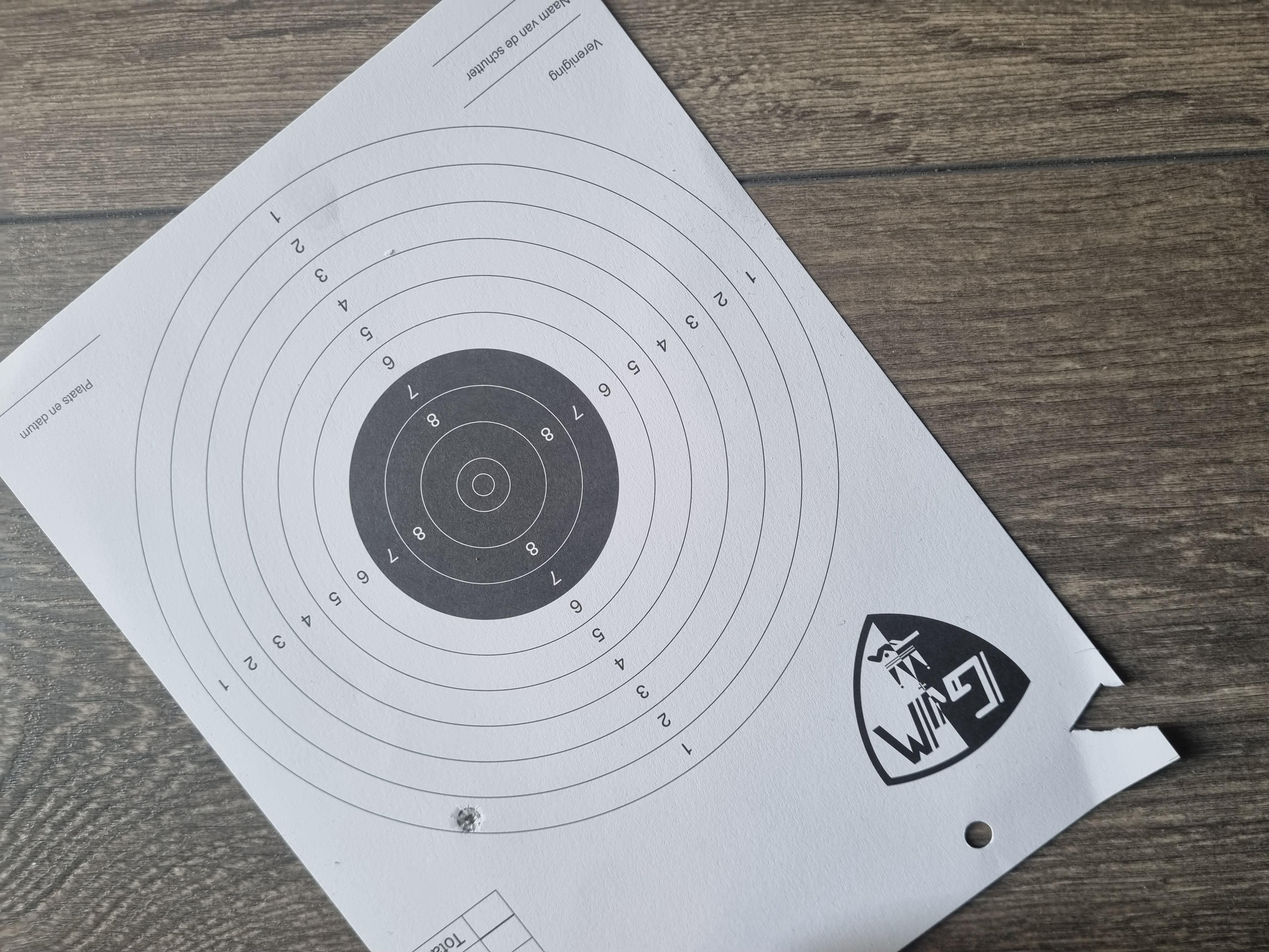hole: (158, 339, 197, 361)
